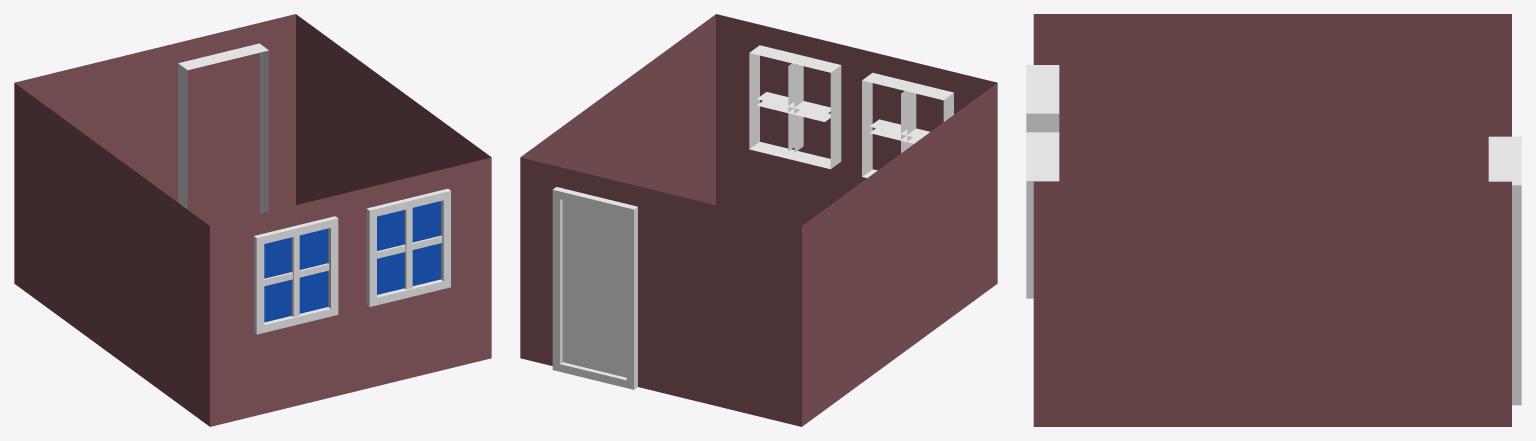
Rendered from CityBuildingA_04_base.fbx.
3 views of the same model, side by side, from view 1: azimuth 30°, elevation 25°; view 2: azimuth 150°, elevation 25°; view 3: azimuth 270°, elevation 25° (orthographic). The views are drawn at different scales.
Parts seen in each view (by area): view 1: CityBuildingA_04_base; view 2: CityBuildingA_04_base; view 3: CityBuildingA_04_base.
Boxes of the visible parts, x1,y1,x2,y2 form: CityBuildingA_04_base: (14, 14, 491, 426); CityBuildingA_04_base: (520, 14, 997, 426); CityBuildingA_04_base: (1026, 14, 1521, 426).
Bounding box in the file's own units: 0.4513 × 0.3075 × 0.563.
